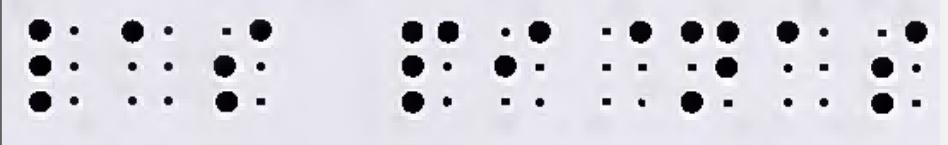a: (776, 23, 833, 110), (121, 20, 176, 104)
dot_4: (599, 21, 652, 106)
enye: (679, 20, 740, 114)
i: (493, 20, 551, 104)
l: (29, 19, 84, 114)
p: (403, 19, 459, 114)
s: (870, 20, 931, 116), (214, 20, 271, 113)
